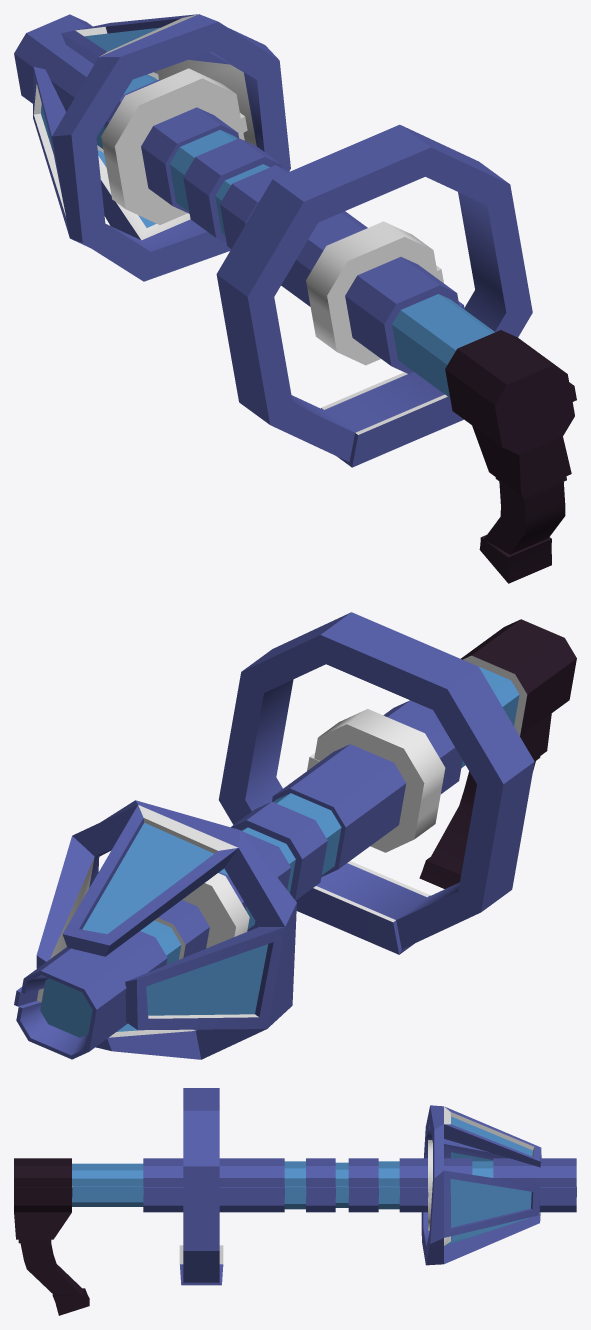
Rendered from LazzzeeerGUn.fbx.
3 renders of one model, top to bottom at view 1: azimuth 30°, elevation 25°; view 2: azimuth 150°, elevation 25°; view 3: azimuth 270°, elevation 25°, orthographic. The views are drawn at different scales.
Parts seen in each view (by area): view 1: Gun_LP; view 2: Gun_LP; view 3: Gun_LP.
Boxes of the visible parts, bbox=[...] form: Gun_LP: bbox=[14, 14, 576, 583]; Gun_LP: bbox=[14, 612, 576, 1059]; Gun_LP: bbox=[14, 1088, 576, 1315].
Bounding box in the file's own units: 84.36 × 99.41 × 246.
